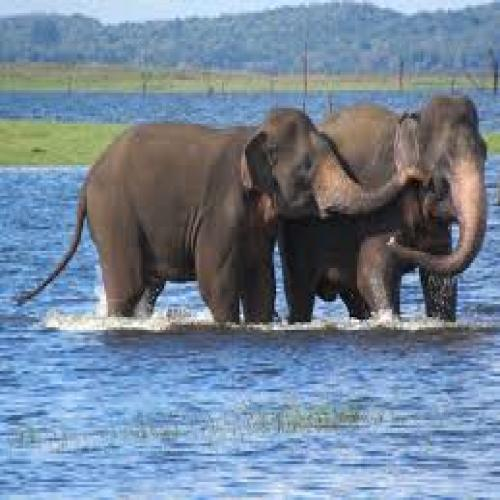asian_elephant-endangered: (18, 110, 437, 328), (276, 96, 490, 320)
